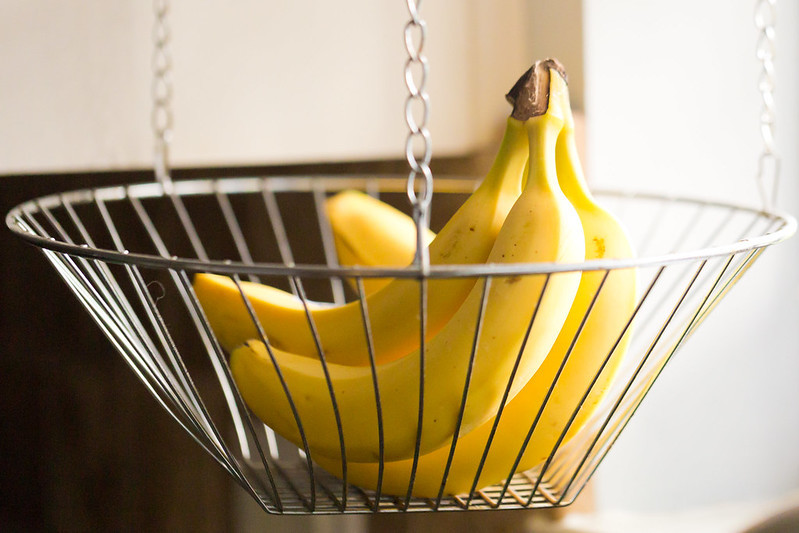banana: (190, 183, 644, 489)
